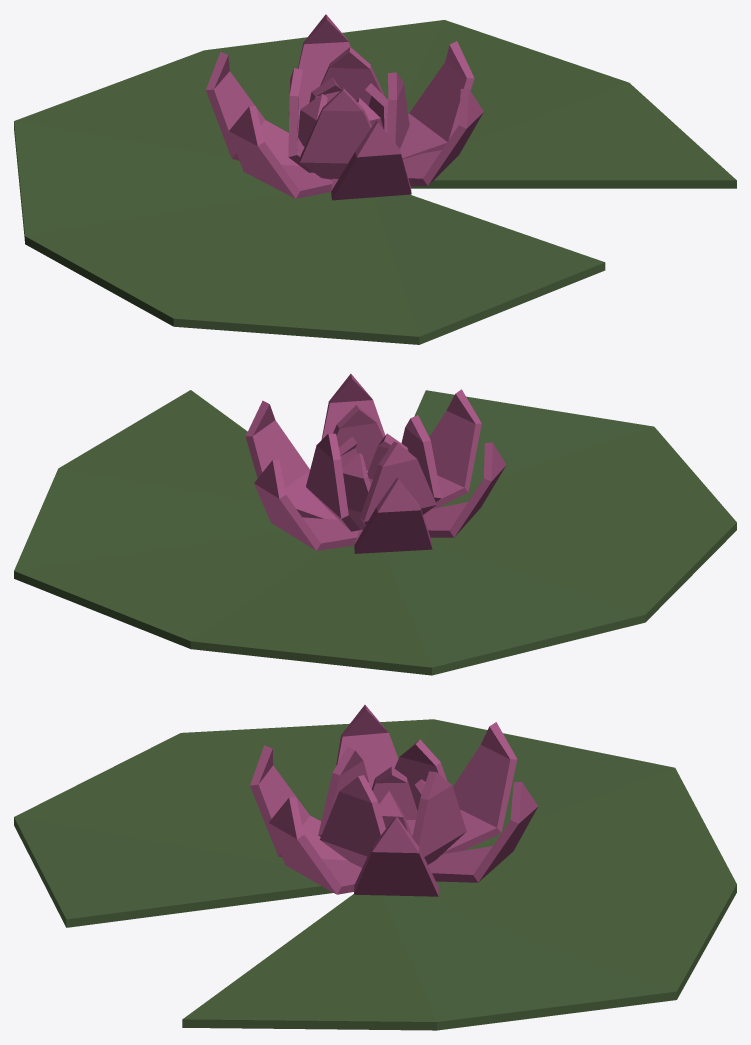
The model's file is Lilypad.glb.
The picture shows the model from 3 angles, top to bottom: view 1: azimuth 30°, elevation 25°; view 2: azimuth 150°, elevation 25°; view 3: azimuth 270°, elevation 25°; orthographic projection. The views are drawn at different scales.
Parts seen in each view (by area): view 1: Lilypad; view 2: Lilypad; view 3: Lilypad.
Part boxes in pixels (bbox=[...]): Lilypad: bbox=[14, 14, 736, 344]; Lilypad: bbox=[14, 374, 736, 675]; Lilypad: bbox=[14, 705, 736, 1030].
Size of the model in its own units: 0.4789 by 0.0883 by 0.4756.
